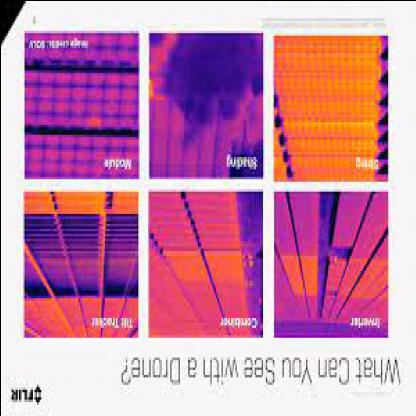Defects: (168, 255, 206, 282), (208, 250, 242, 280), (286, 255, 306, 297), (302, 255, 316, 297)
